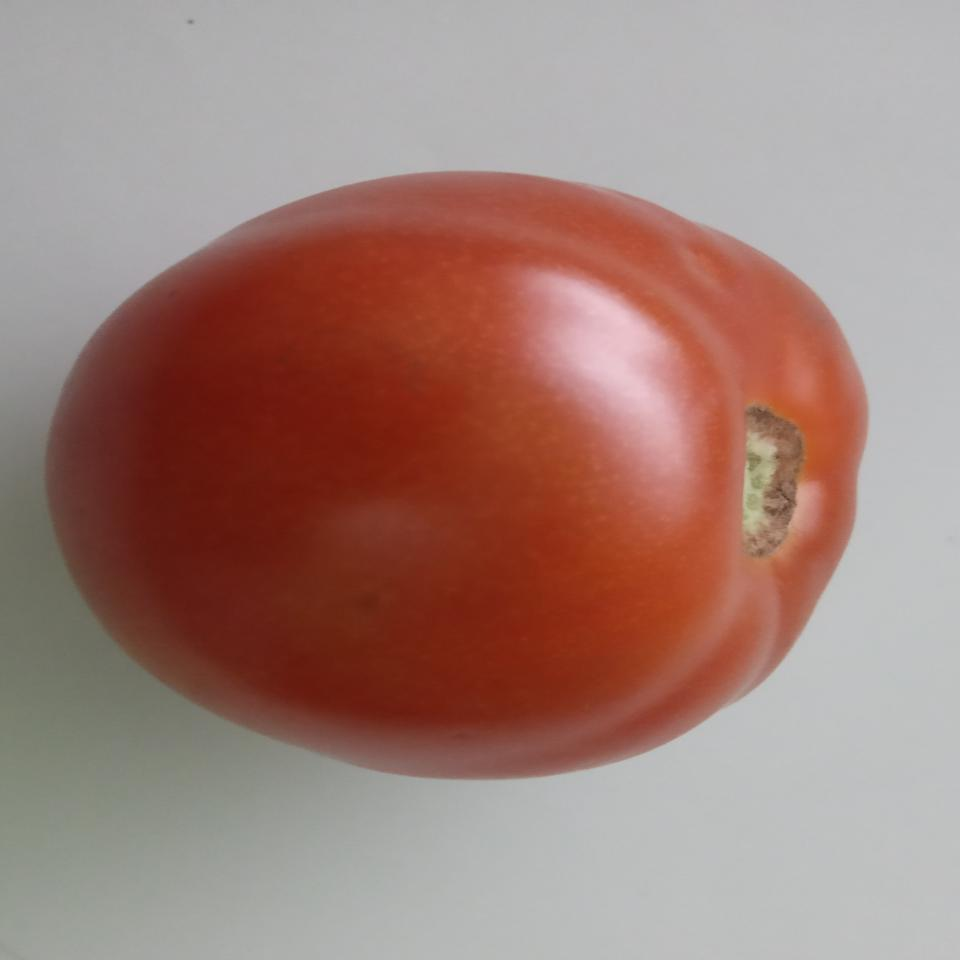Healthy: (42, 166, 867, 780)
